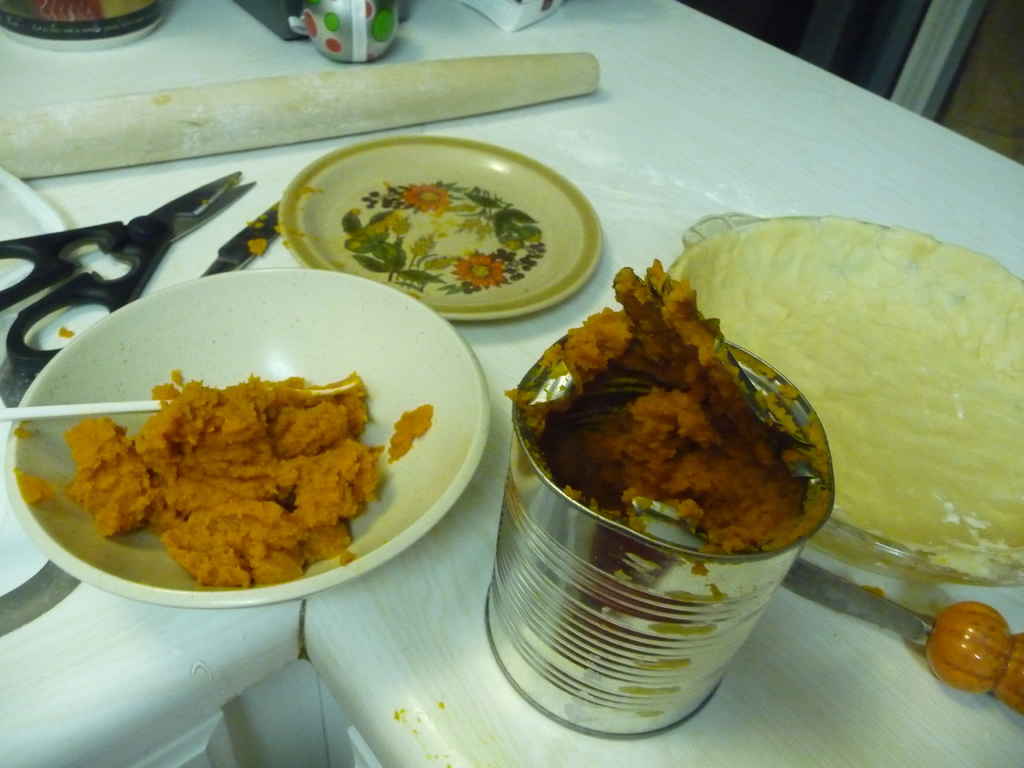plate: (5, 266, 492, 610)
